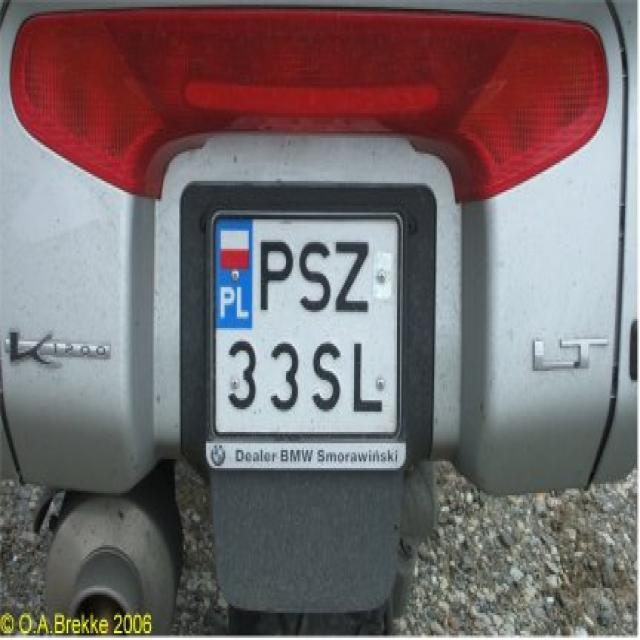pl_license_plate: (213, 215, 394, 430)
